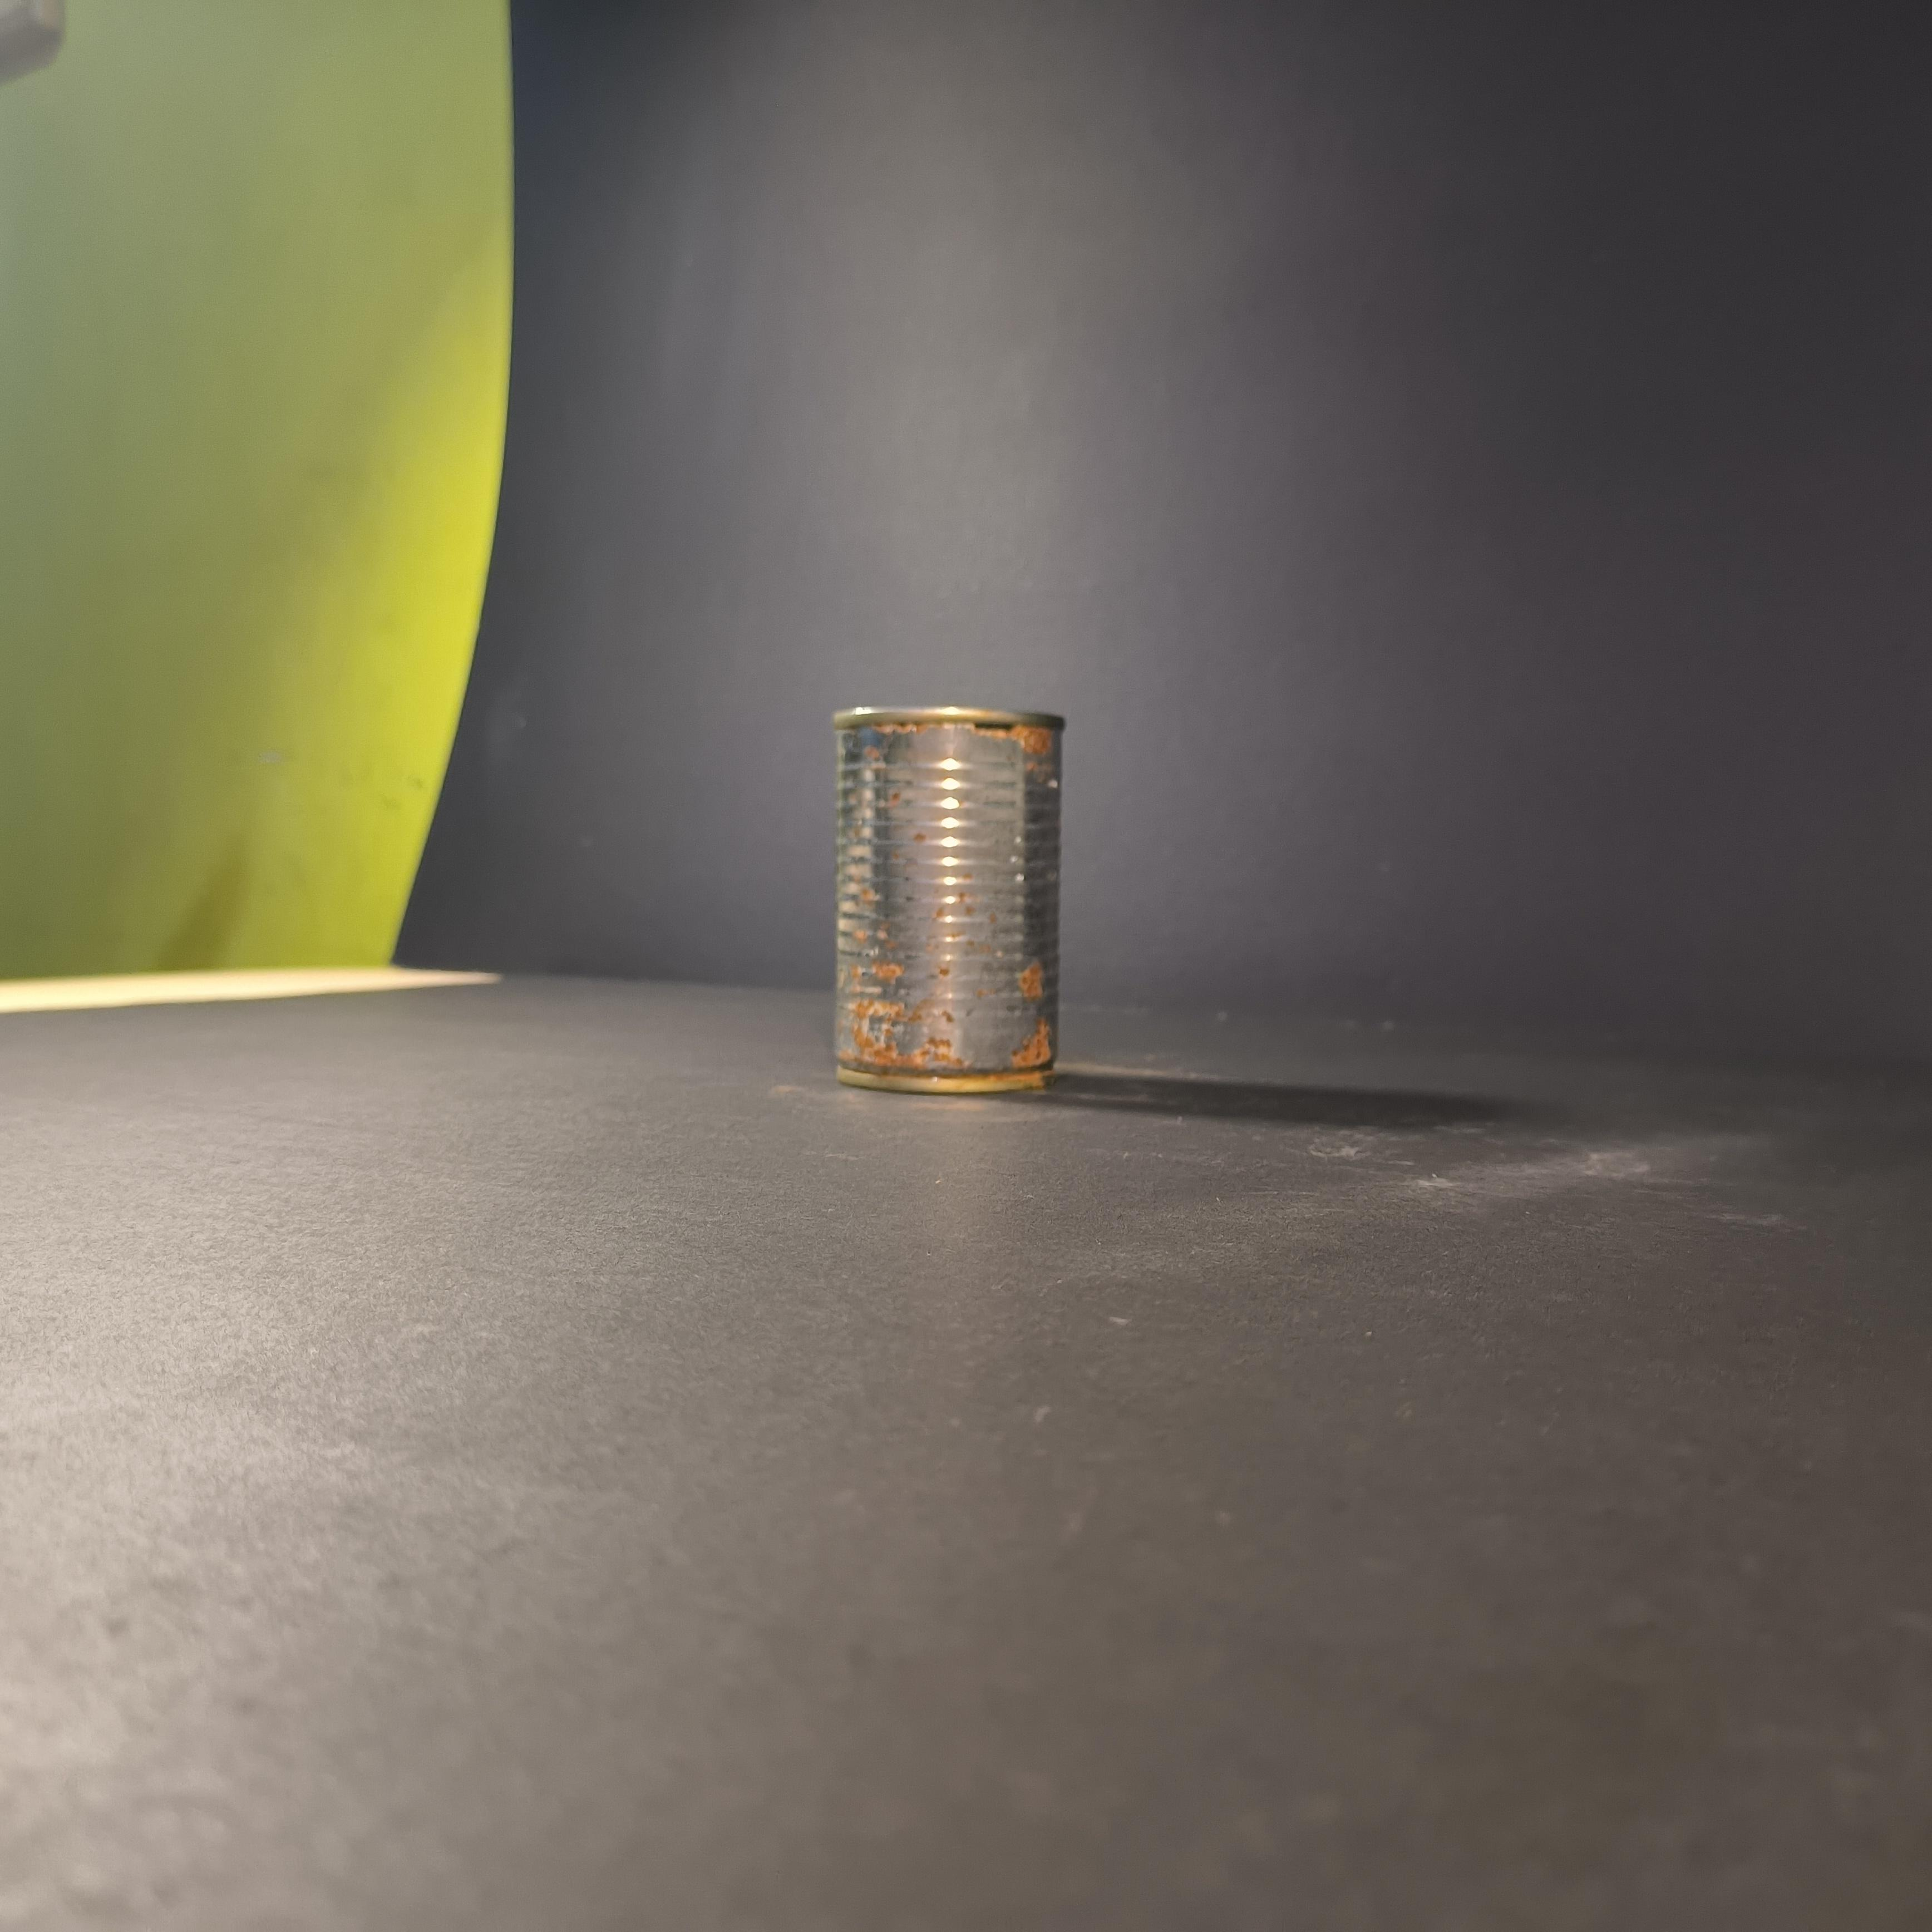Rusted: (821, 679, 1077, 1093)
